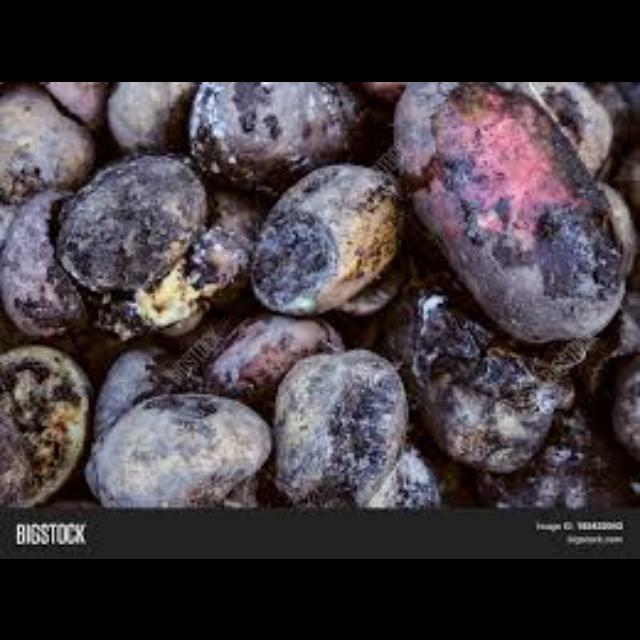Damaged potato: (383, 86, 634, 340), (412, 288, 566, 472), (248, 160, 404, 310), (268, 352, 406, 510), (84, 392, 272, 506), (170, 82, 364, 188), (56, 153, 204, 285), (0, 332, 91, 500), (3, 194, 102, 342)
